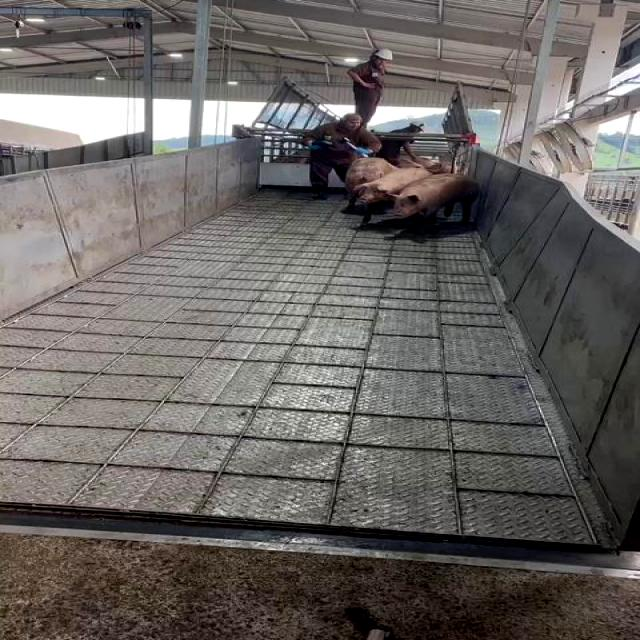pig: (394, 175, 479, 232), (355, 168, 431, 223), (346, 158, 396, 209)
